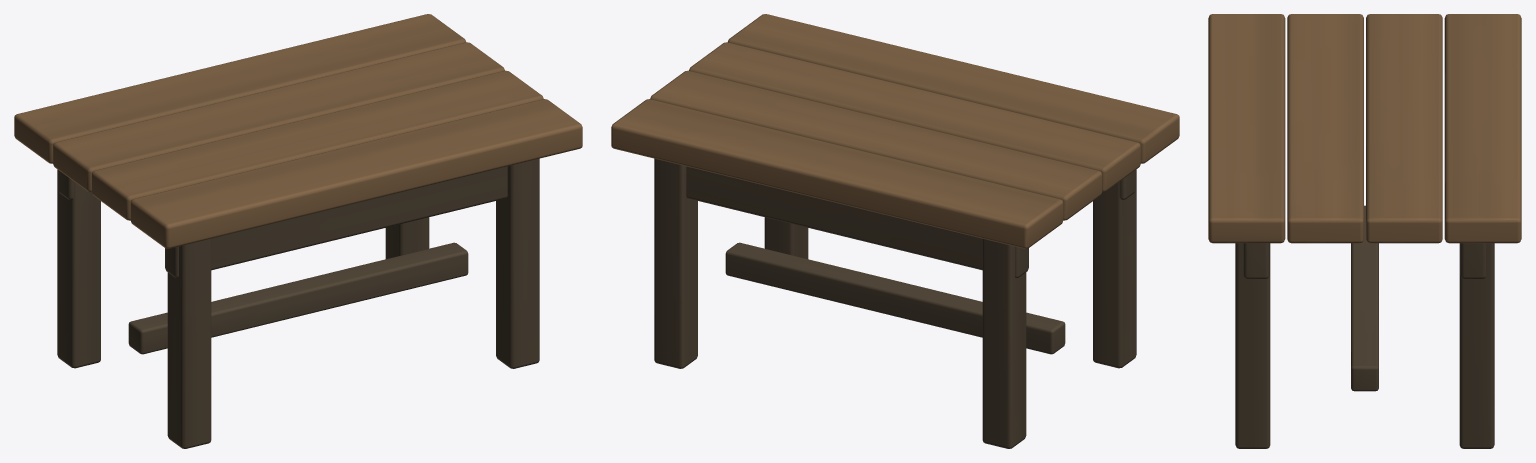
Rendered from table.glb.
3 renders of one model, left to right at view 1: azimuth 30°, elevation 25°; view 2: azimuth 150°, elevation 25°; view 3: azimuth 270°, elevation 25°, orthographic.
Parts seen in each view (by area): view 1: Tavern Table; view 2: Tavern Table; view 3: Tavern Table.
Boxes of the visible parts, bbox=[...] form: Tavern Table: bbox=[14, 14, 582, 448]; Tavern Table: bbox=[611, 14, 1179, 448]; Tavern Table: bbox=[1208, 14, 1521, 448].
Size of the model in its own units: 1.4 by 0.775 by 0.894.
2 materials, 2 textured.
